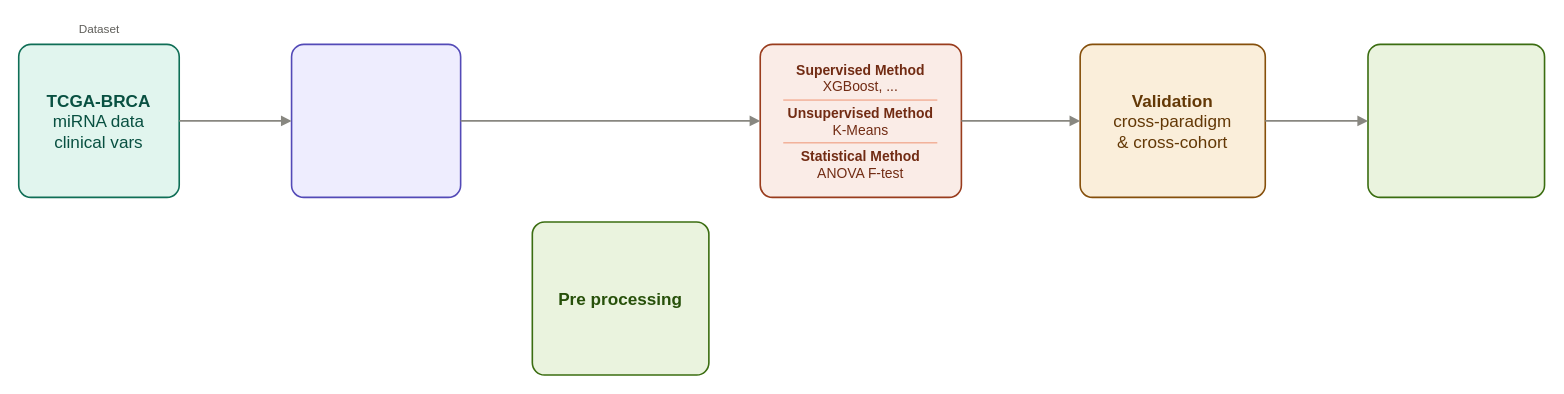
This 1564x394 diagram has some shape labels left out. The centre of each missing label's shape, as x and y in pixels:
Biomarker Panel per subtype: the point at 1456,120
Pilot cohort n = 244 Expanded n = 702: the point at 375,120
